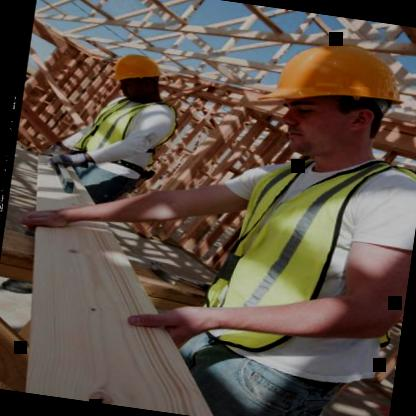helmet: (245, 24, 416, 178), (102, 44, 172, 106)
